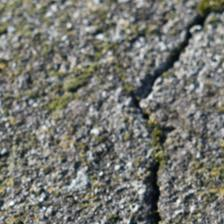Crack: (0, 41, 104, 130), (31, 84, 142, 132)
